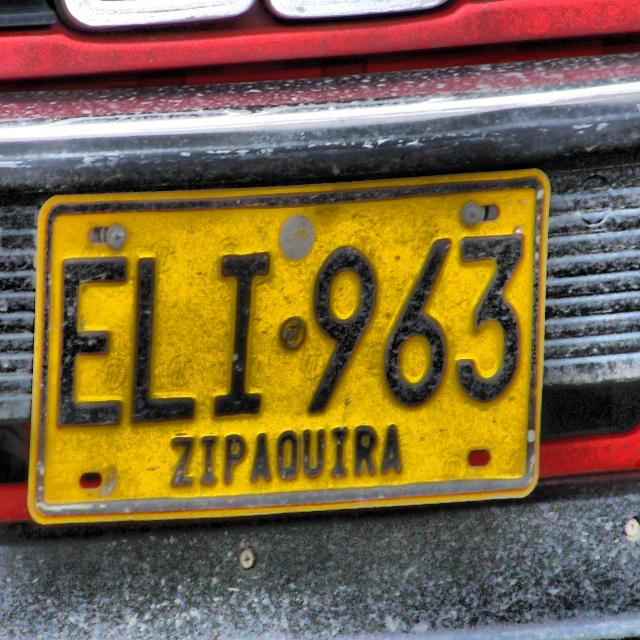plate: (33, 178, 544, 510)
